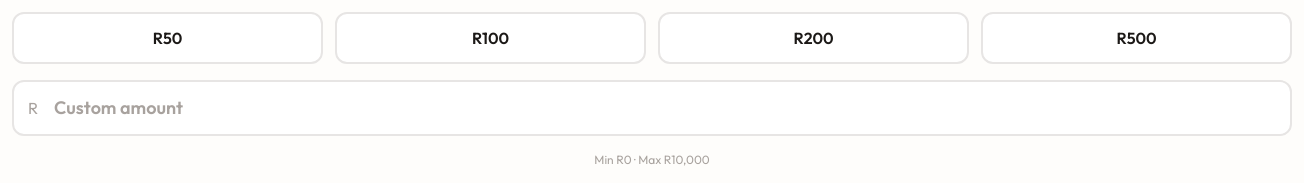
Test case: AmountSelector component › strips non-numeric characters from custom input
In the field with placeholder "Custom amount": (652, 108) left=12, top=80, right=1292, bottom=136, type "abc123def"
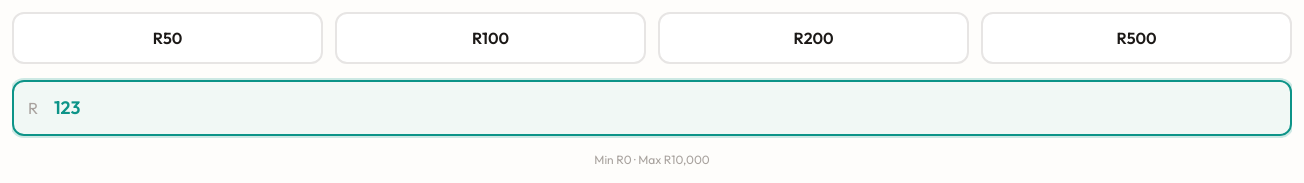
Expected: the field with placeholder "Custom amount" holds "123", left=12, top=80, right=1292, bottom=136
